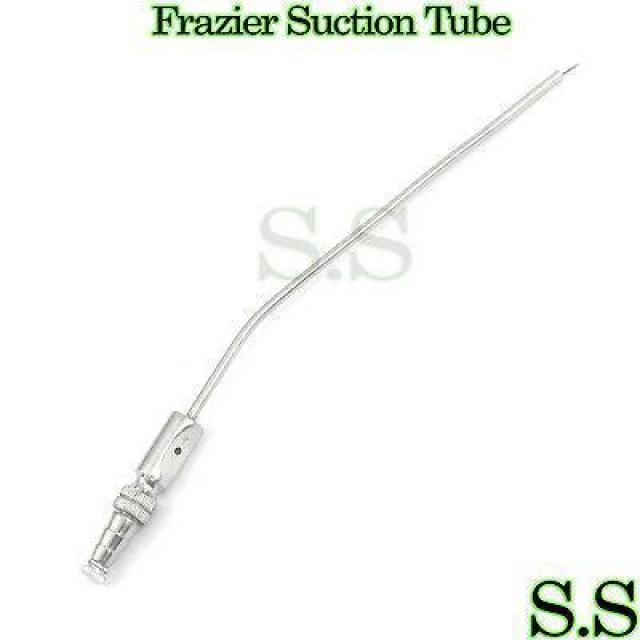Frazier: (84, 65, 566, 588)
